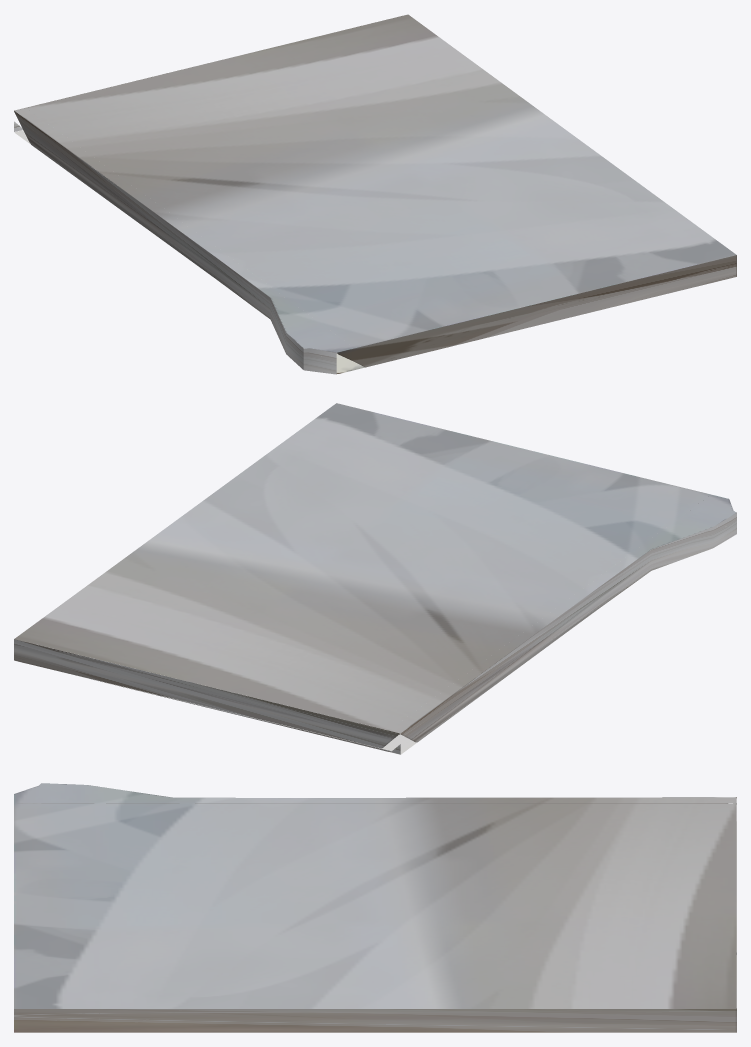
The model's file is PokerA.fbx.
3 views of the same model, one above another, from view 1: azimuth 30°, elevation 25°; view 2: azimuth 150°, elevation 25°; view 3: azimuth 270°, elevation 25° (orthographic). The views are drawn at different scales.
Visible parts, largest first — view 1: pCube7; view 2: pCube7; view 3: pCube7.
Boxes of the visible parts, x1,y1,x2,y2 form: pCube7: (14, 14, 736, 374); pCube7: (14, 403, 736, 754); pCube7: (14, 783, 736, 1032).
Bounding box in the file's own units: 0.7388 × 0.0365 × 1.
